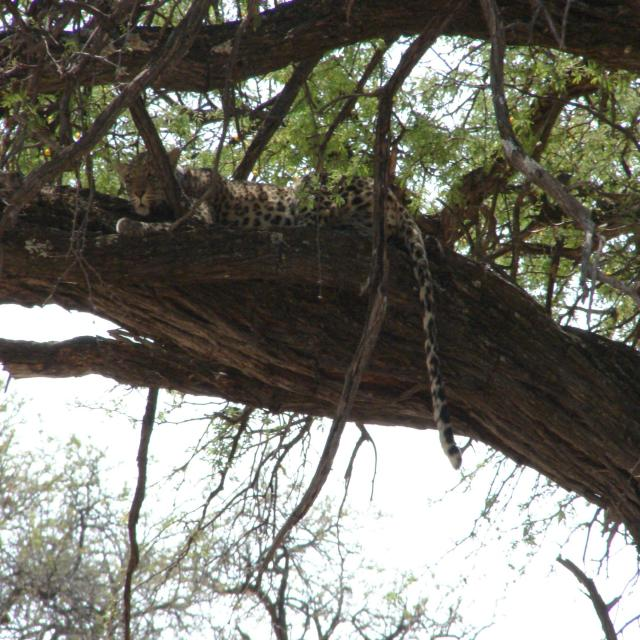Leopard: (98, 155, 469, 514)
